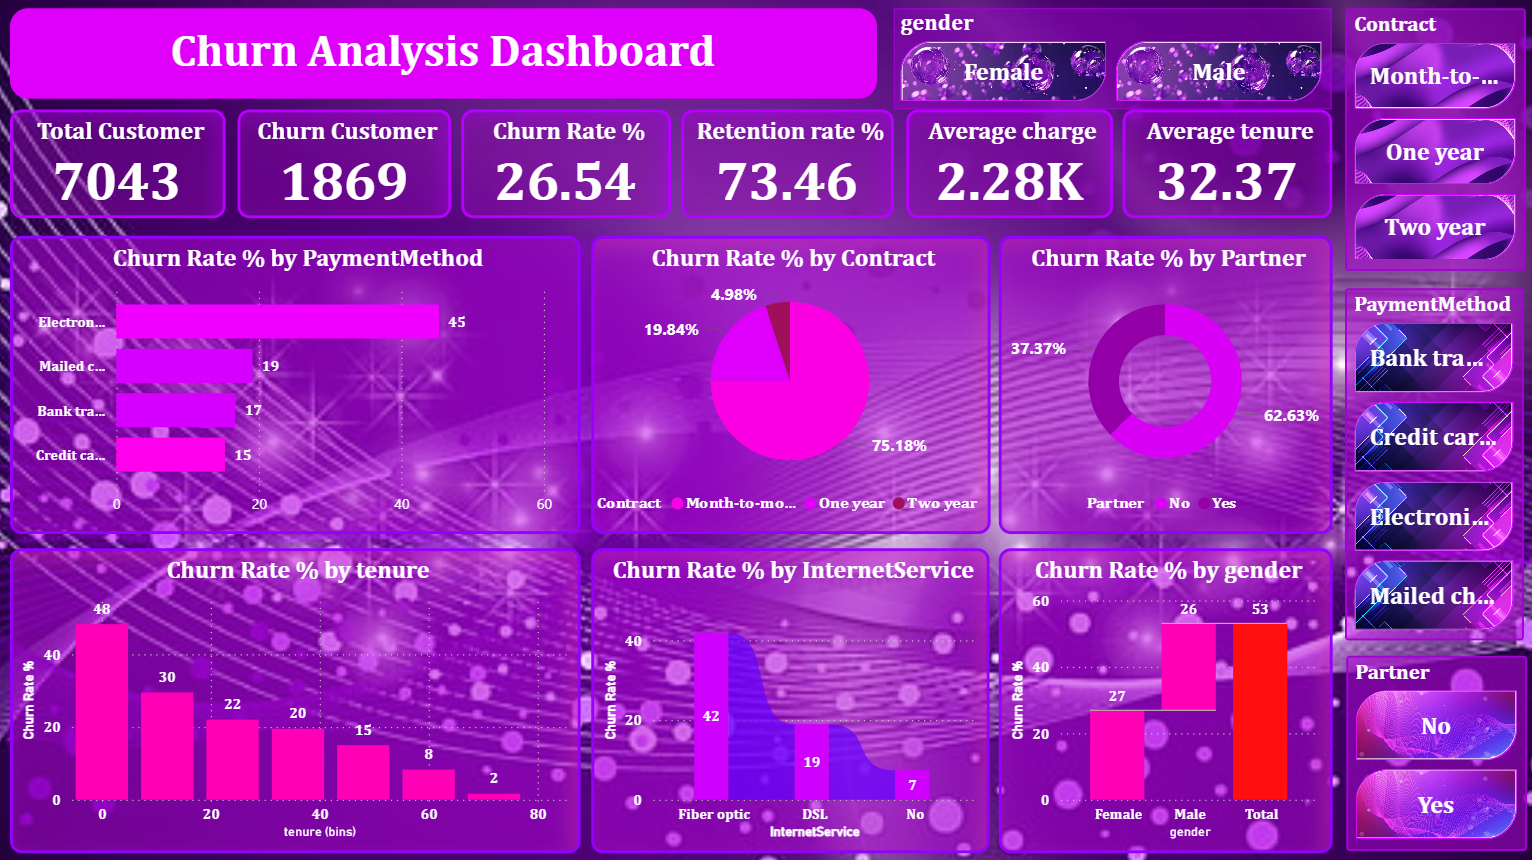

The page's visual inventory and layout, read from the dashboard file:
{"tool":"powerbi","page":{"name":"Page 1","canvas":[1280,720],"ordinal":0},"visuals":[{"type":"card","title":"Total Customer","fields":{"Values":["churn dataset.Total customer"]},"box":[12.8,93,179.1,90.7],"z":0},{"type":"card","title":"Churn Customer","fields":{"Values":["churn dataset.churn customer"]},"box":[201.2,93,177.9,90.7],"z":1000},{"type":"card","title":"Churn Rate %","fields":{"Values":["churn dataset.Churn Rate %"]},"box":[387.2,93,174.4,90.7],"z":2000},{"type":"card","title":"Retention rate %","fields":{"Values":["churn dataset.Retention Rate %"]},"box":[570.9,93,176.7,90.7],"z":3000},{"type":"card","title":"Average tenure","fields":{"Values":["Avg(churn dataset.tenure)"]},"box":[937.2,93,174.4,90.7],"z":4000},{"type":"donutChart","fields":{"Y":["churn dataset.Churn Rate %"],"Category":["churn dataset.Partner"]},"box":[834.3,198.5,277.8,248.2],"z":5000},{"type":"pieChart","fields":{"Y":["churn dataset.Churn Rate %"],"Category":["churn dataset.Contract"]},"box":[495.3,198.5,331.6,248.2],"z":6000},{"type":"clusteredBarChart","fields":{"Y":["churn dataset.Churn Rate %"],"Category":["churn dataset.PaymentMethod"]},"box":[12.8,198.8,474.4,247.7],"z":7000},{"type":"waterfallChart","fields":{"Category":["churn dataset.gender"],"Y":["churn dataset.Churn Rate %"]},"box":[834.3,458.3,277.8,253.5],"z":8000},{"type":"columnChart","title":"Churn Rate % by tenure","fields":{"Category":["churn dataset.tenure (bins)"],"Y":["churn dataset.Churn Rate %"]},"box":[12.8,458.1,474.4,253.5],"z":9000},{"type":"ribbonChart","fields":{"Y":["churn dataset.Churn Rate %"],"Category":["churn dataset.InternetService"]},"box":[495.4,458.1,331.4,253.5],"z":10000},{"type":"card","title":"Average charge","fields":{"Values":["Avg(churn dataset.TotalCharges)"]},"box":[758.1,93,172.1,90.7],"z":11000},{"type":"textbox","box":[12.8,9.3,720.9,75.6],"z":12000},{"type":"advancedSlicerVisual","fields":{"Values":["churn dataset.gender"]},"box":[747.7,9.3,364,83.7],"z":13000},{"type":"advancedSlicerVisual","fields":{"Values":["churn dataset.PaymentMethod"]},"box":[1122.1,241.9,148.8,293],"z":14000},{"type":"advancedSlicerVisual","fields":{"Values":["churn dataset.Contract"]},"box":[1122.1,9.3,150,218.6],"z":15000},{"type":"advancedSlicerVisual","fields":{"Values":["churn dataset.Partner"]},"box":[1123.3,547.7,150,162.8],"z":16000}]}

Visuals, with their boxes in screenshot pixels (x1, y1, x2, y2), scaled from the page's 1280x720 canvas onto the 1532x860 screenshot:
"Total Customer" card: BBox(15, 111, 230, 219)
"Churn Customer" card: BBox(241, 111, 454, 219)
"Churn Rate %" card: BBox(463, 111, 672, 219)
"Retention rate %" card: BBox(683, 111, 895, 219)
"Average tenure" card: BBox(1122, 111, 1330, 219)
donutChart - churn dataset.Churn Rate % x churn dataset.Partner: BBox(999, 237, 1331, 534)
pieChart - churn dataset.Churn Rate % x churn dataset.Contract: BBox(593, 237, 990, 534)
clusteredBarChart - churn dataset.Churn Rate % x churn dataset.PaymentMethod: BBox(15, 237, 583, 533)
waterfallChart - churn dataset.gender x churn dataset.Churn Rate %: BBox(999, 547, 1331, 850)
"Churn Rate % by tenure" columnChart: BBox(15, 547, 583, 850)
ribbonChart - churn dataset.Churn Rate % x churn dataset.InternetService: BBox(593, 547, 990, 850)
"Average charge" card: BBox(907, 111, 1113, 219)
textbox: BBox(15, 11, 878, 101)
advancedSlicerVisual - churn dataset.gender: BBox(895, 11, 1331, 111)
advancedSlicerVisual - churn dataset.PaymentMethod: BBox(1343, 289, 1521, 639)
advancedSlicerVisual - churn dataset.Contract: BBox(1343, 11, 1523, 272)
advancedSlicerVisual - churn dataset.Partner: BBox(1344, 654, 1524, 849)
